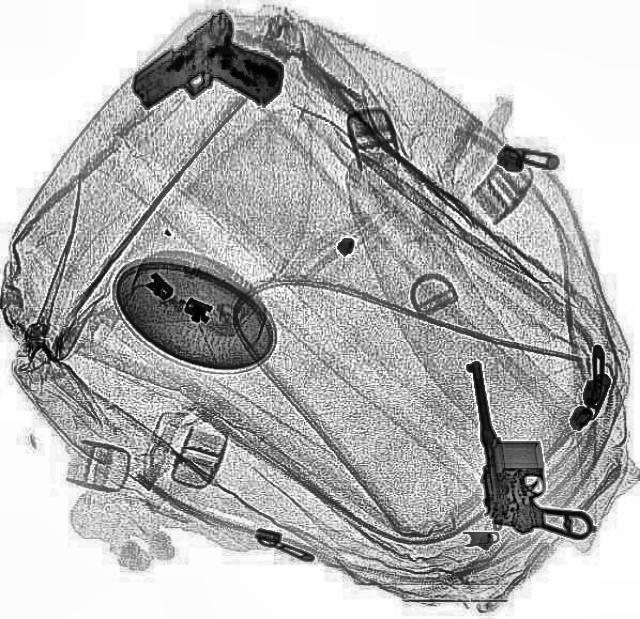Gun: (120, 2, 296, 156), (465, 350, 591, 548)
